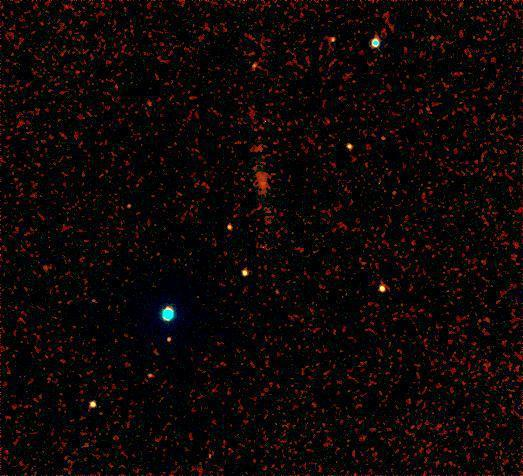star: (155, 324, 185, 354)
